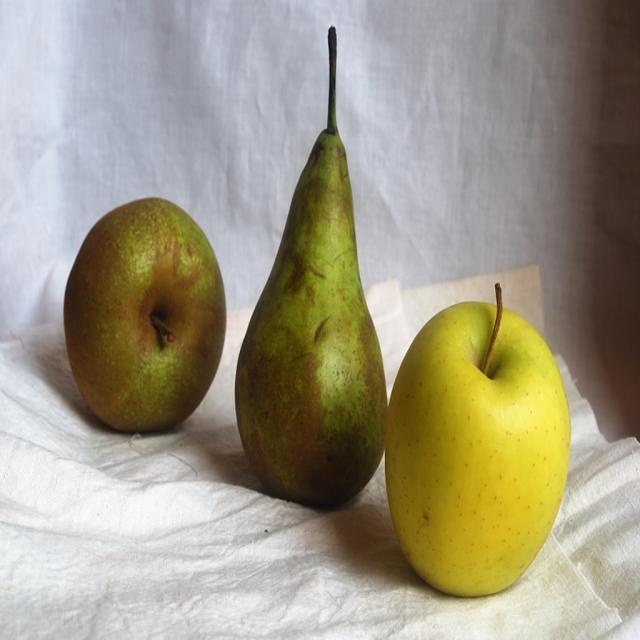apple: (385, 300, 570, 600)
pear: (234, 125, 388, 511), (62, 195, 226, 435)
